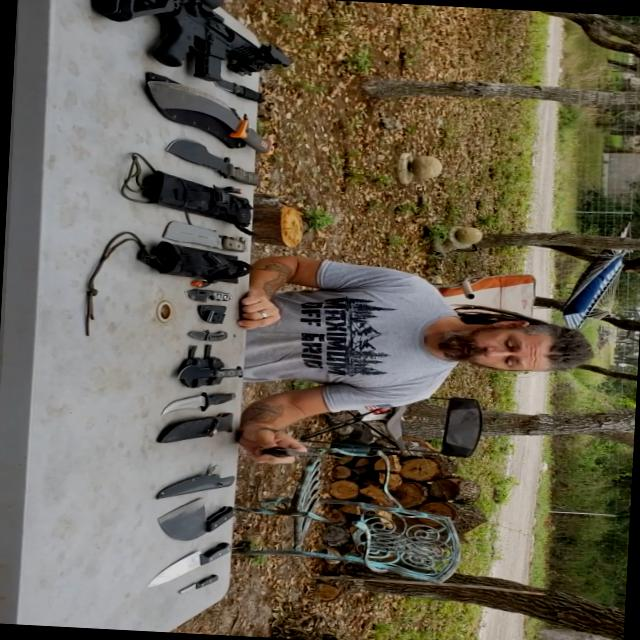knife: (138, 57, 287, 166), (158, 129, 276, 197), (148, 490, 245, 547), (148, 534, 240, 594), (156, 218, 264, 262), (202, 68, 276, 118), (147, 384, 245, 421), (251, 442, 348, 470), (173, 360, 250, 392), (177, 282, 246, 312), (174, 570, 226, 602), (175, 326, 238, 350)
long weapon: (64, 0, 309, 90)
